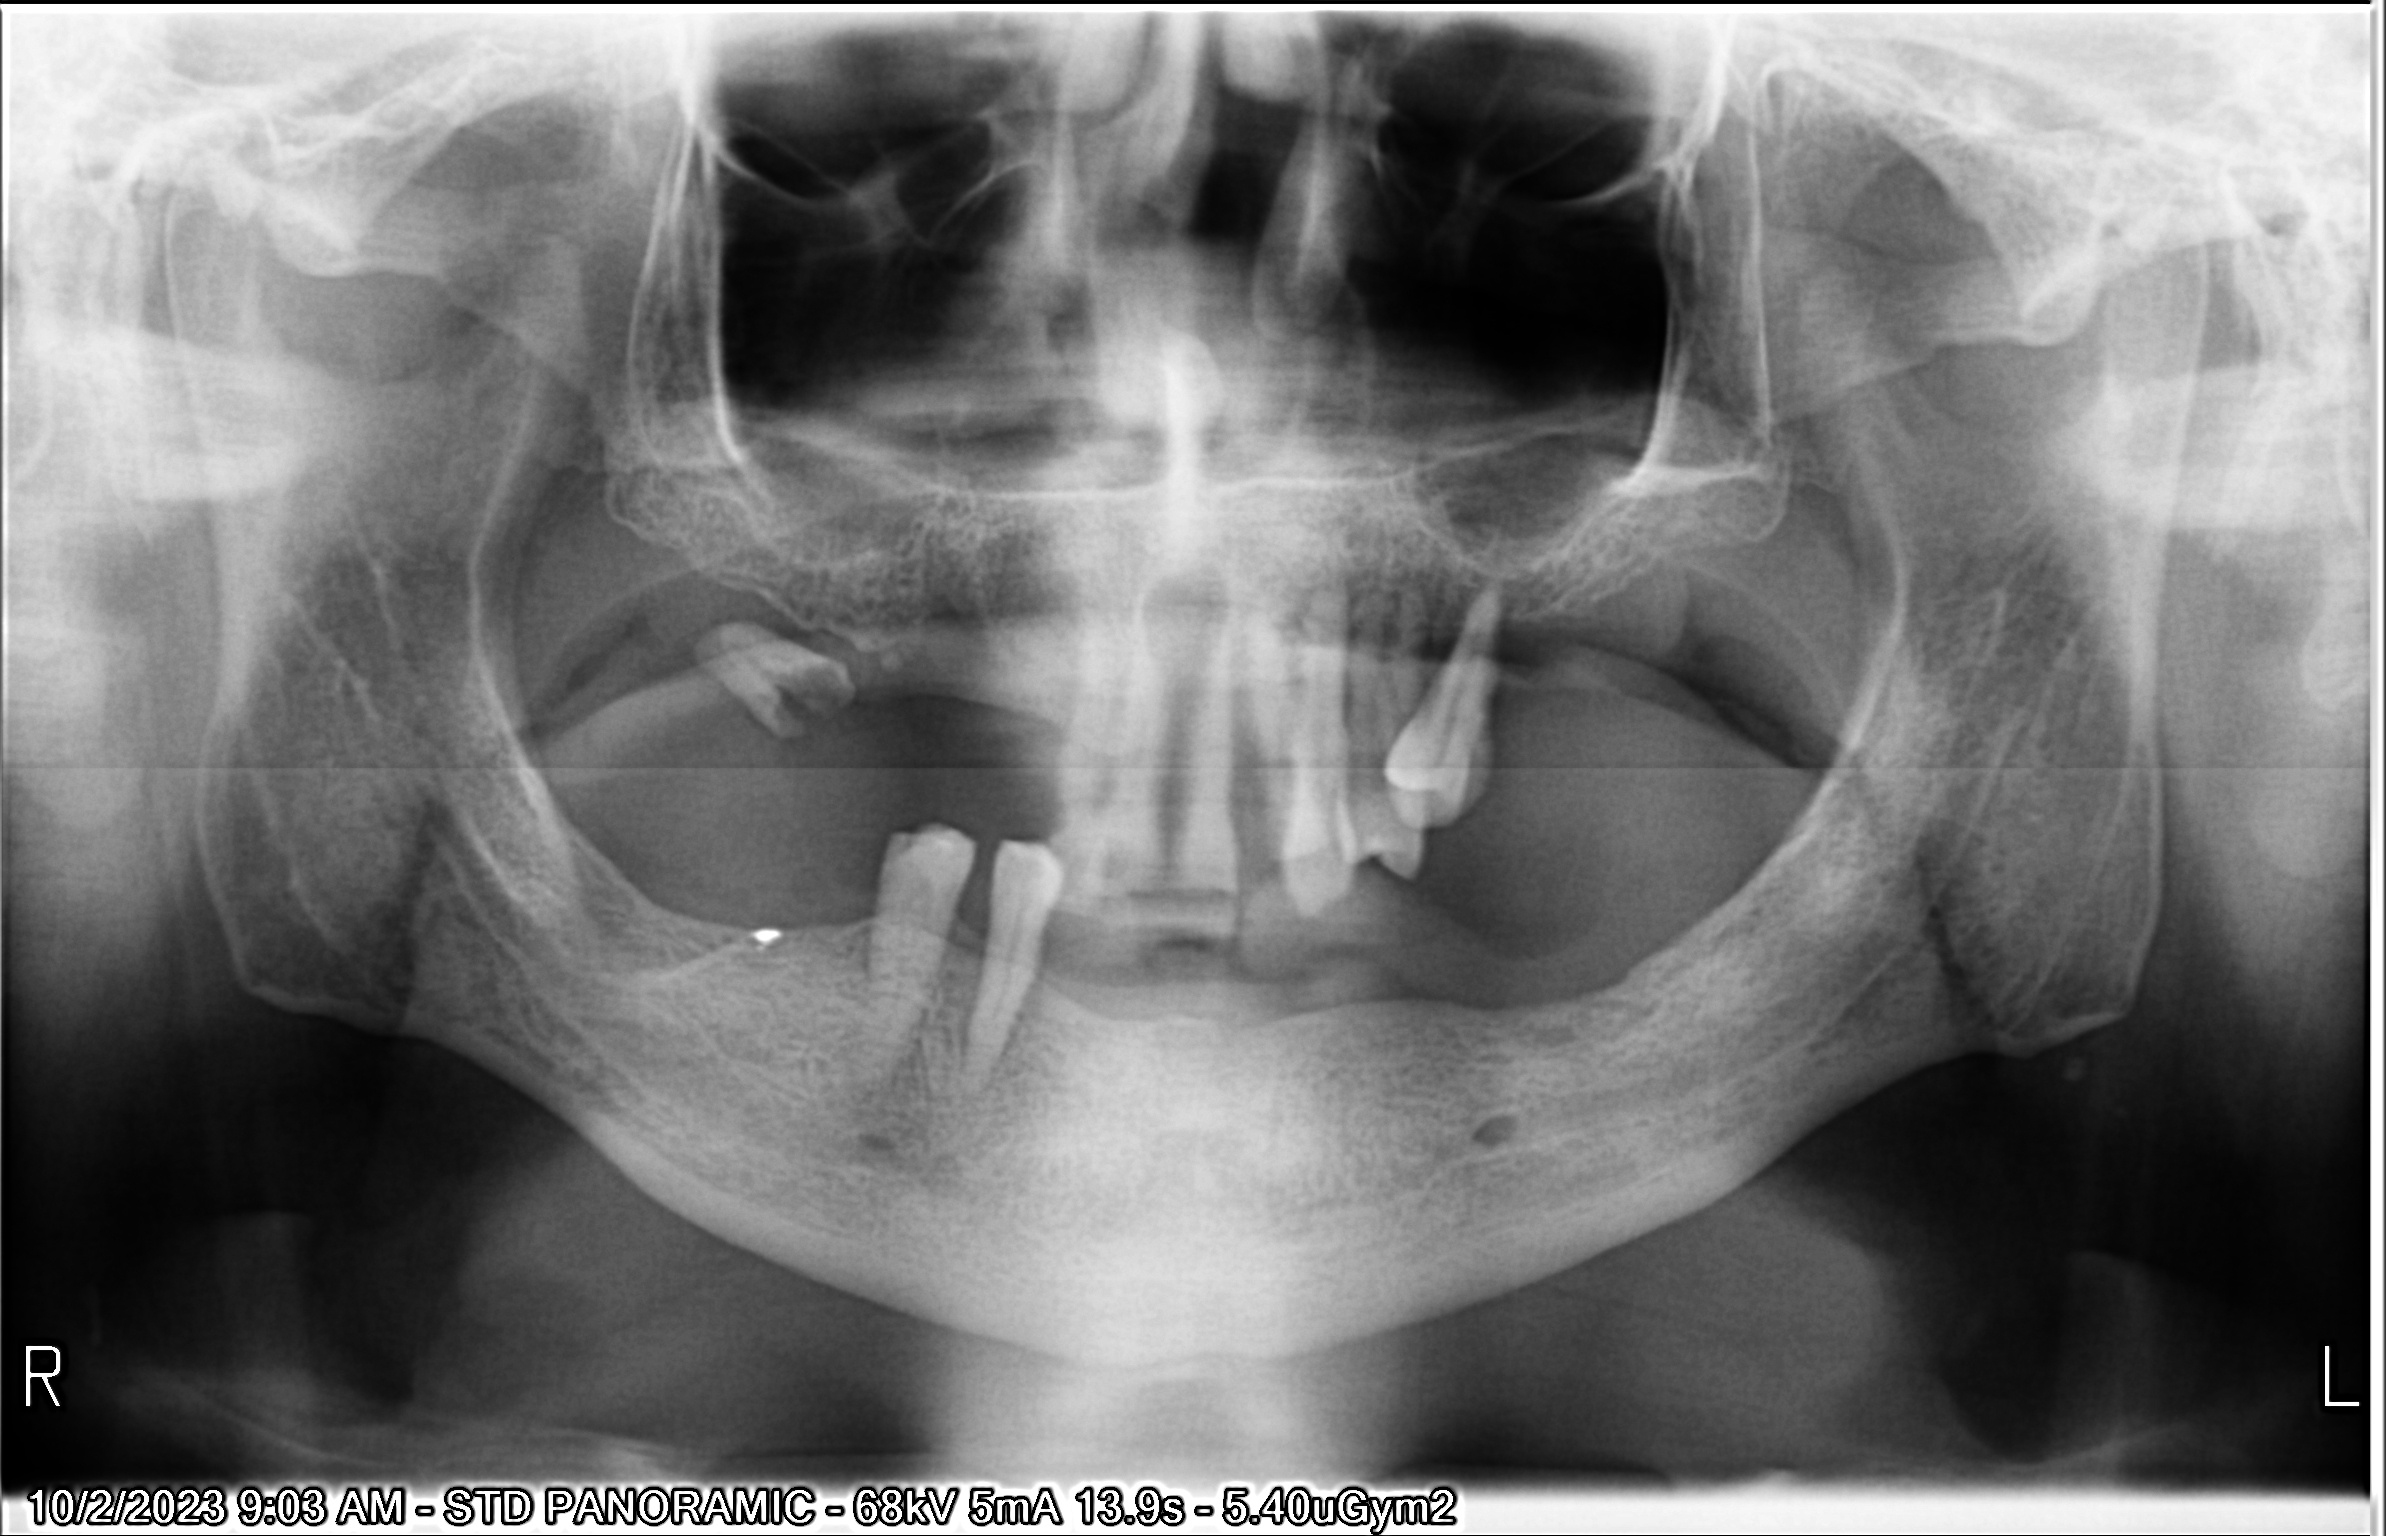BON: (1478, 597, 1544, 696), (1409, 605, 1463, 698)
ROT: (696, 588, 866, 762)
